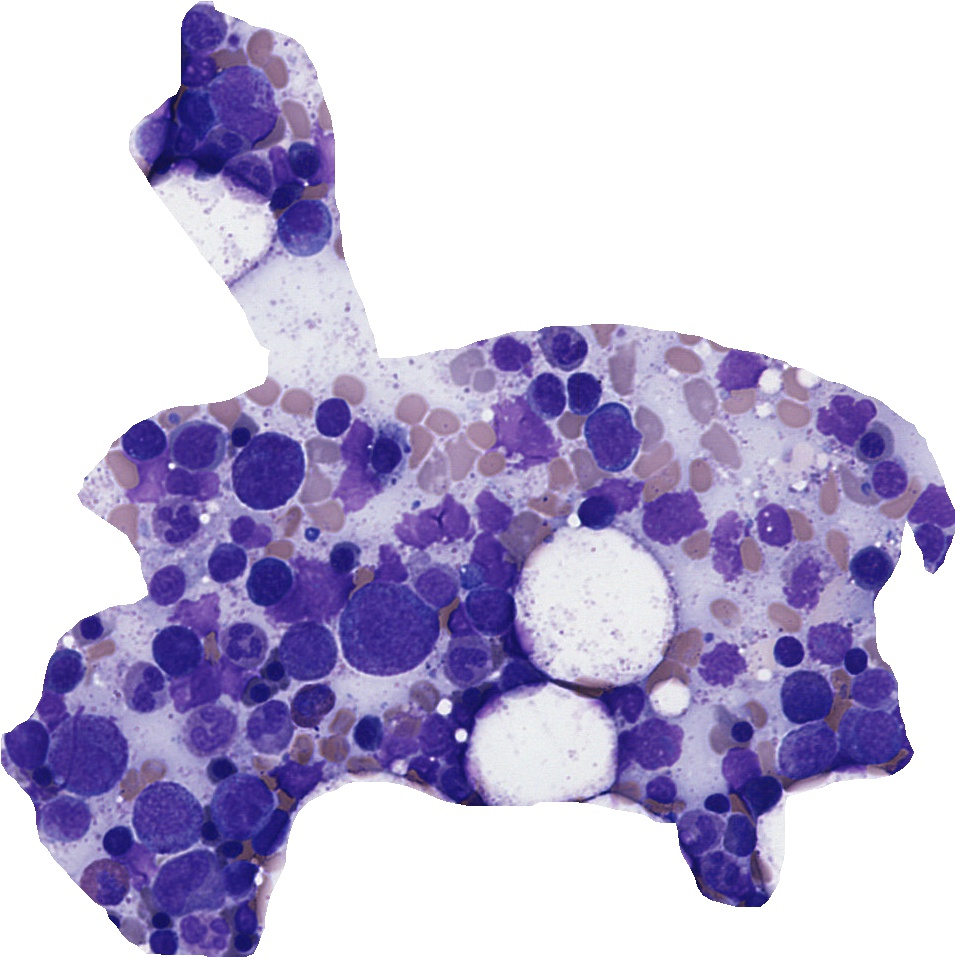objectness: (39, 793, 89, 843), (277, 199, 327, 249), (224, 152, 274, 202), (675, 808, 725, 858), (154, 495, 204, 545), (217, 619, 267, 669), (189, 705, 239, 755), (778, 670, 828, 720), (783, 723, 833, 773), (285, 679, 335, 729), (77, 855, 127, 905), (438, 631, 488, 681), (245, 701, 295, 751), (540, 323, 590, 373), (177, 3, 227, 53), (120, 660, 170, 710), (841, 712, 891, 762), (58, 728, 108, 778), (167, 422, 217, 472), (585, 413, 635, 463), (215, 777, 265, 827), (241, 446, 291, 496), (221, 896, 271, 946), (134, 895, 184, 945), (849, 661, 899, 711), (270, 753, 320, 803), (804, 615, 854, 665), (570, 488, 620, 538), (636, 762, 686, 812), (446, 548, 496, 598), (703, 500, 753, 550), (28, 683, 78, 733), (713, 342, 763, 392), (461, 584, 511, 634), (425, 492, 475, 542), (306, 390, 356, 440), (171, 88, 221, 138), (259, 169, 309, 219), (159, 113, 209, 163), (707, 536, 757, 586), (18, 753, 68, 803), (211, 855, 261, 905), (205, 652, 255, 702), (486, 328, 536, 378), (149, 455, 199, 505), (716, 810, 766, 860), (1, 718, 51, 768), (846, 539, 896, 589), (749, 498, 799, 548), (201, 121, 251, 171), (596, 467, 646, 517), (431, 760, 481, 810), (718, 742, 768, 792), (409, 559, 459, 609), (477, 548, 527, 598), (282, 624, 332, 674), (245, 808, 295, 858), (822, 396, 872, 446), (331, 417, 381, 467), (736, 767, 786, 817), (647, 489, 697, 539), (181, 462, 231, 512), (762, 624, 812, 674), (411, 709, 461, 759), (122, 451, 172, 501), (397, 744, 447, 794), (131, 112, 181, 162), (402, 503, 452, 553), (365, 432, 415, 482), (221, 508, 271, 558), (434, 597, 484, 647), (623, 715, 673, 765), (176, 659, 226, 709), (368, 543, 418, 593), (468, 488, 518, 538), (865, 450, 915, 500), (500, 651, 550, 701), (144, 560, 194, 610), (151, 624, 201, 674), (345, 709, 395, 759), (257, 136, 307, 186), (456, 675, 506, 725), (204, 822, 254, 872), (284, 567, 334, 617), (695, 637, 745, 687), (489, 614, 539, 664), (176, 585, 226, 635), (782, 549, 832, 599), (185, 806, 235, 856), (461, 525, 511, 575), (90, 815, 140, 865), (174, 39, 224, 89), (498, 402, 548, 452), (372, 720, 422, 770), (333, 457, 383, 507), (692, 778, 742, 828), (593, 673, 643, 723), (833, 634, 883, 684), (202, 536, 252, 586), (522, 372, 572, 422), (903, 514, 953, 564), (560, 367, 610, 417), (235, 668, 285, 718), (243, 556, 293, 606), (715, 705, 765, 755), (45, 641, 95, 691), (195, 741, 245, 791), (215, 409, 265, 459), (277, 134, 327, 184), (315, 533, 365, 583), (251, 642, 301, 692), (64, 603, 114, 653), (847, 417, 897, 467), (116, 415, 166, 465), (215, 79, 265, 129), (160, 858, 210, 908), (357, 603, 407, 653), (136, 789, 186, 839), (179, 909, 229, 957), (915, 479, 955, 529), (136, 917, 186, 957), (219, 921, 269, 957)
